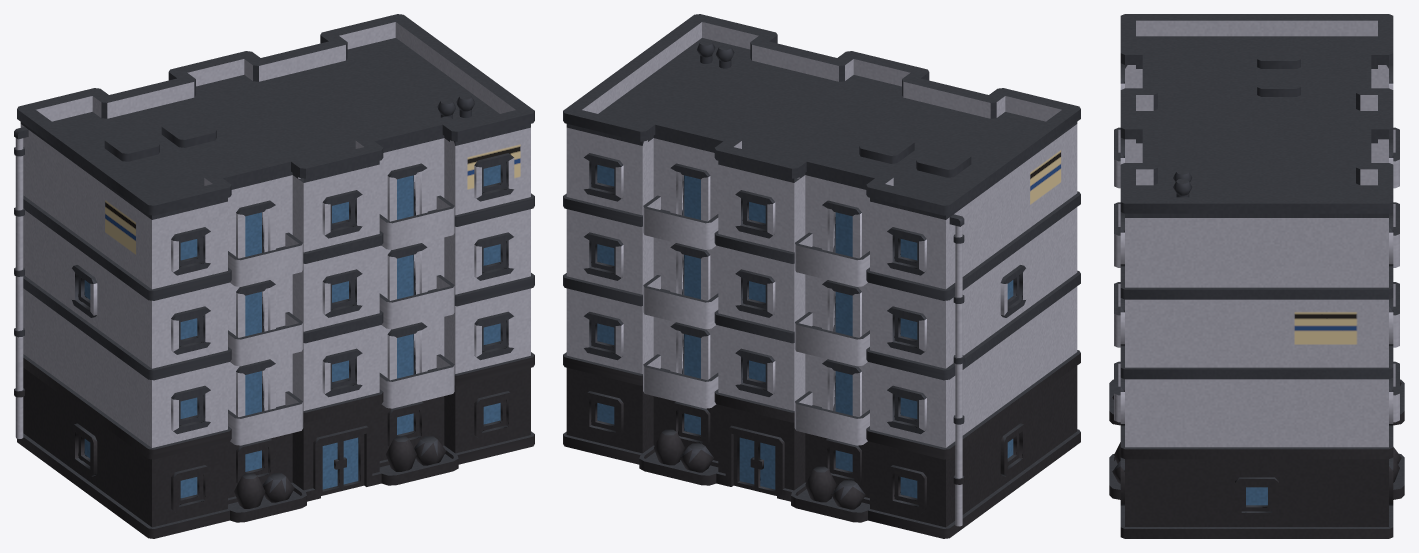
File: building-j-white.glb
3 renders of one model, left to right at view 1: azimuth 30°, elevation 25°; view 2: azimuth 150°, elevation 25°; view 3: azimuth 270°, elevation 25°, orthographic.
Visible parts, largest first — view 1: building-j-white; view 2: building-j-white; view 3: building-j-white.
Boxes of the visible parts, x1=… form: building-j-white: x1=14, y1=14, x2=534, y2=538; building-j-white: x1=563, y1=14, x2=1080, y2=538; building-j-white: x1=1109, y1=14, x2=1404, y2=538.
Bounding box in the file's own units: 2.08 × 1.69 × 1.34.
1 material, 1 textured.
